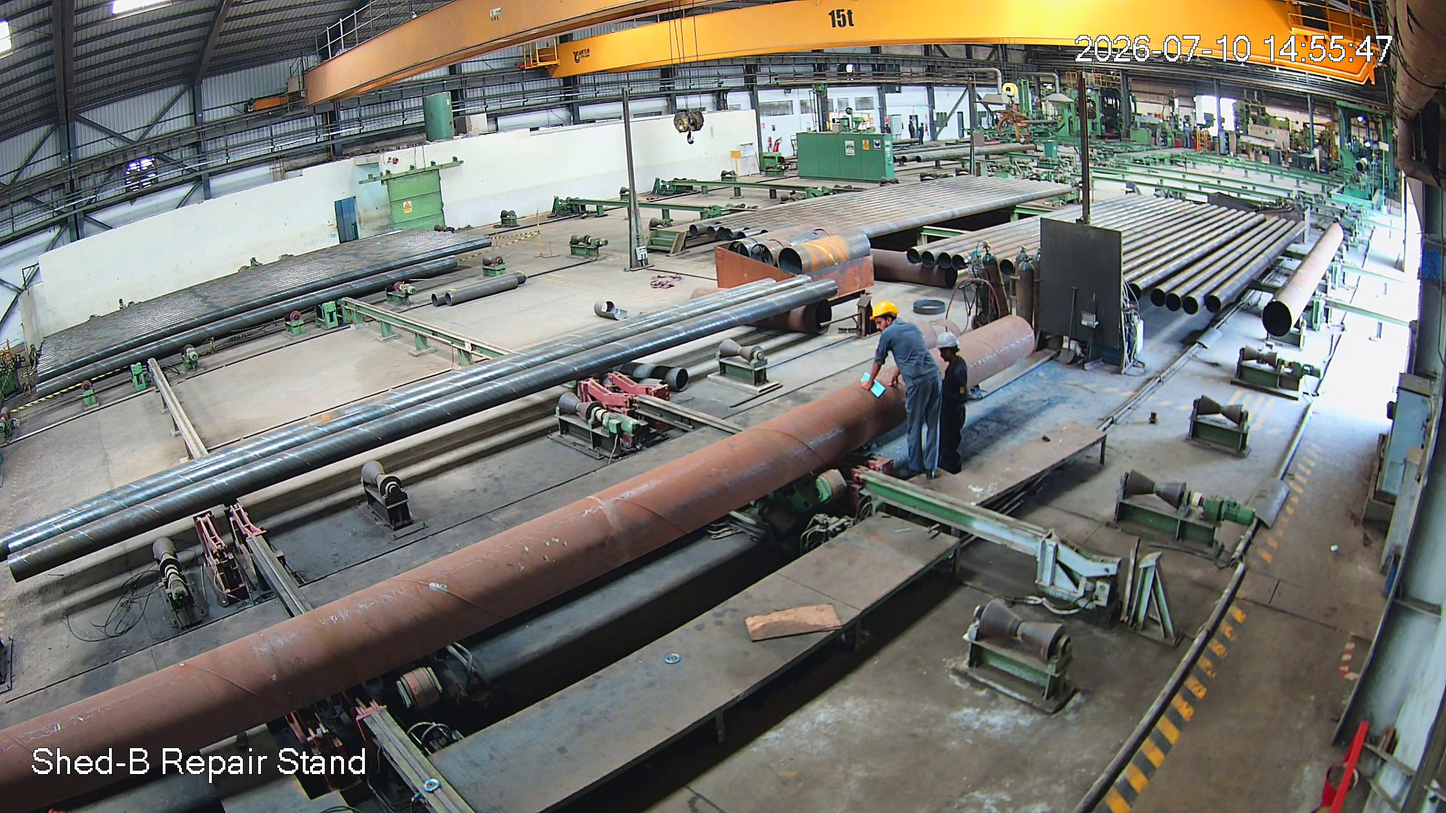Helmet: (865, 299, 910, 350), (935, 321, 967, 366)
Person: (859, 301, 941, 487), (935, 328, 971, 477)
